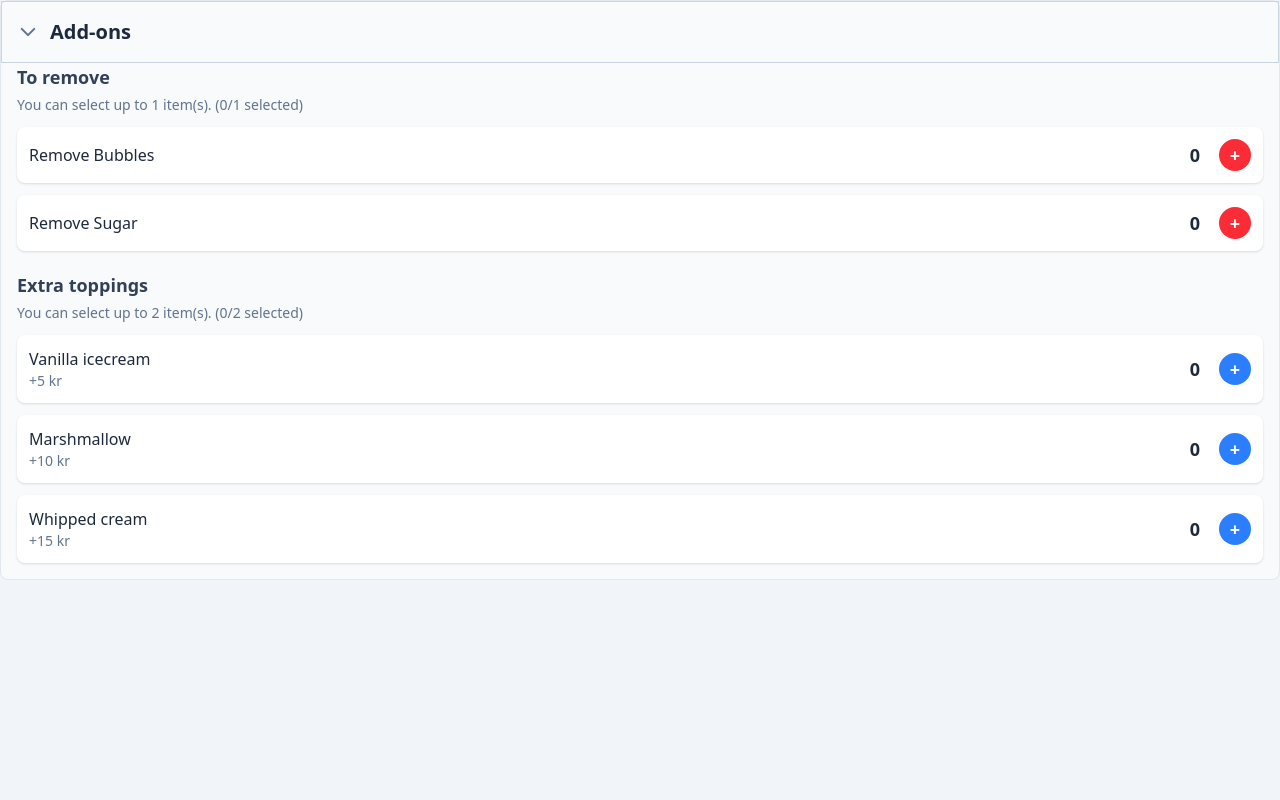
Test: AddonSelector › should disable other addon buttons when the group limit is reached
Click the button "+" in the row of "Vanilla icecream". click: (1235, 369)
box: [1219, 353, 1251, 385]
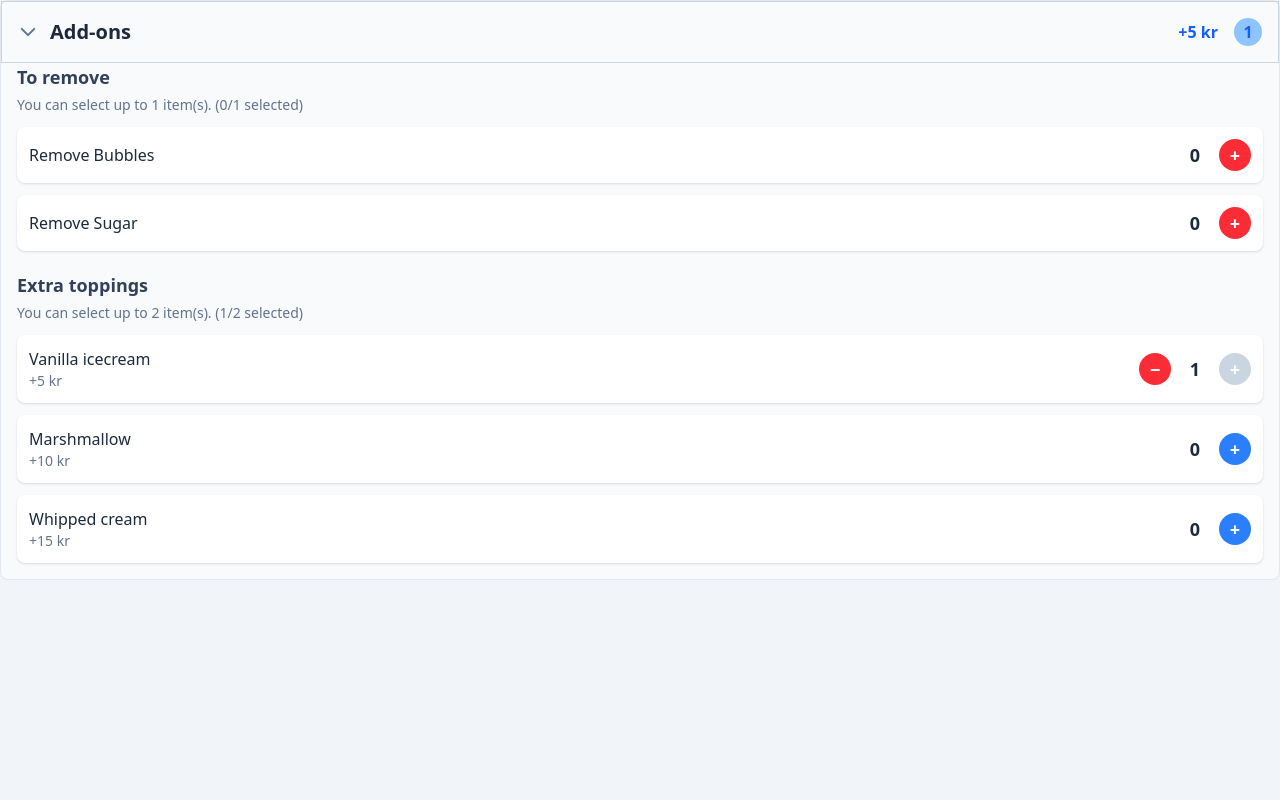
Click the button "+" in the row of "Marshmallow". click: (1235, 449)
box: [1219, 433, 1251, 465]
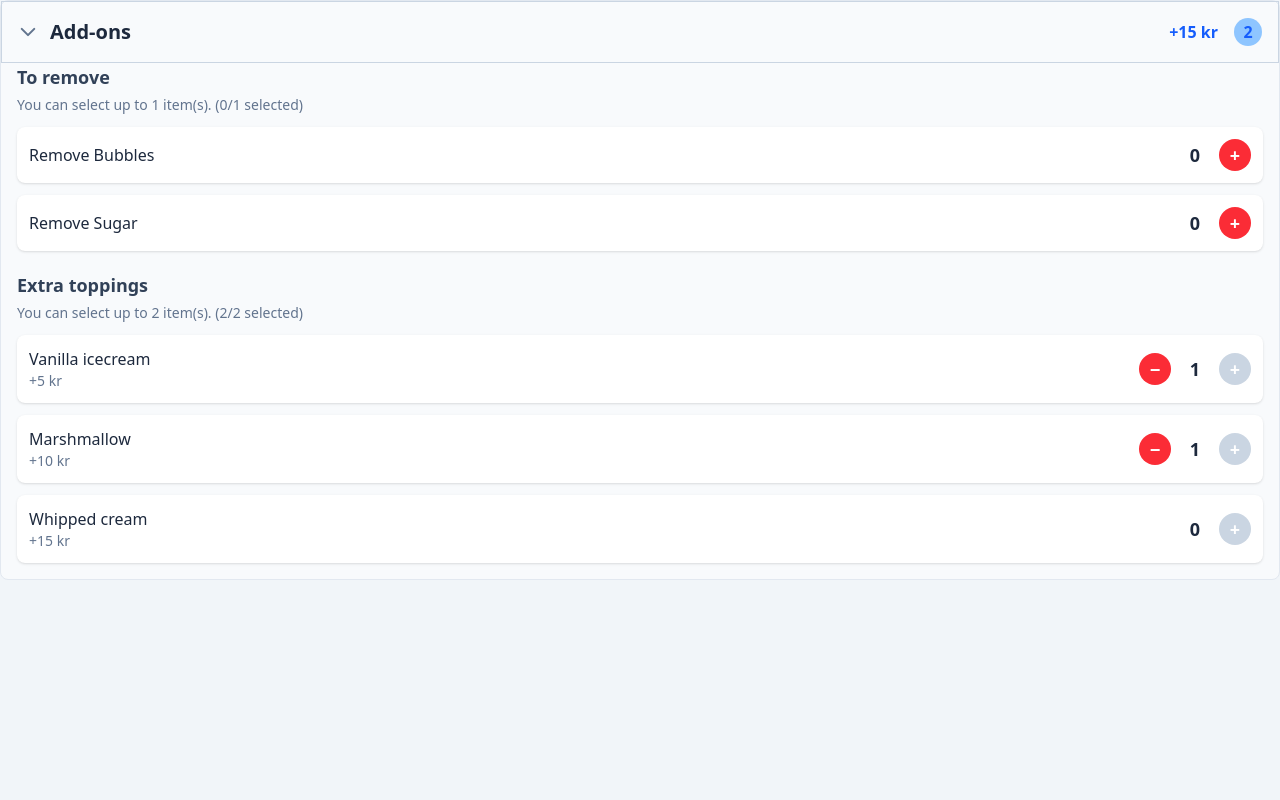
Now the button "+" in the row of "Marshmallow" is disabled, box [1219, 433, 1251, 465]
